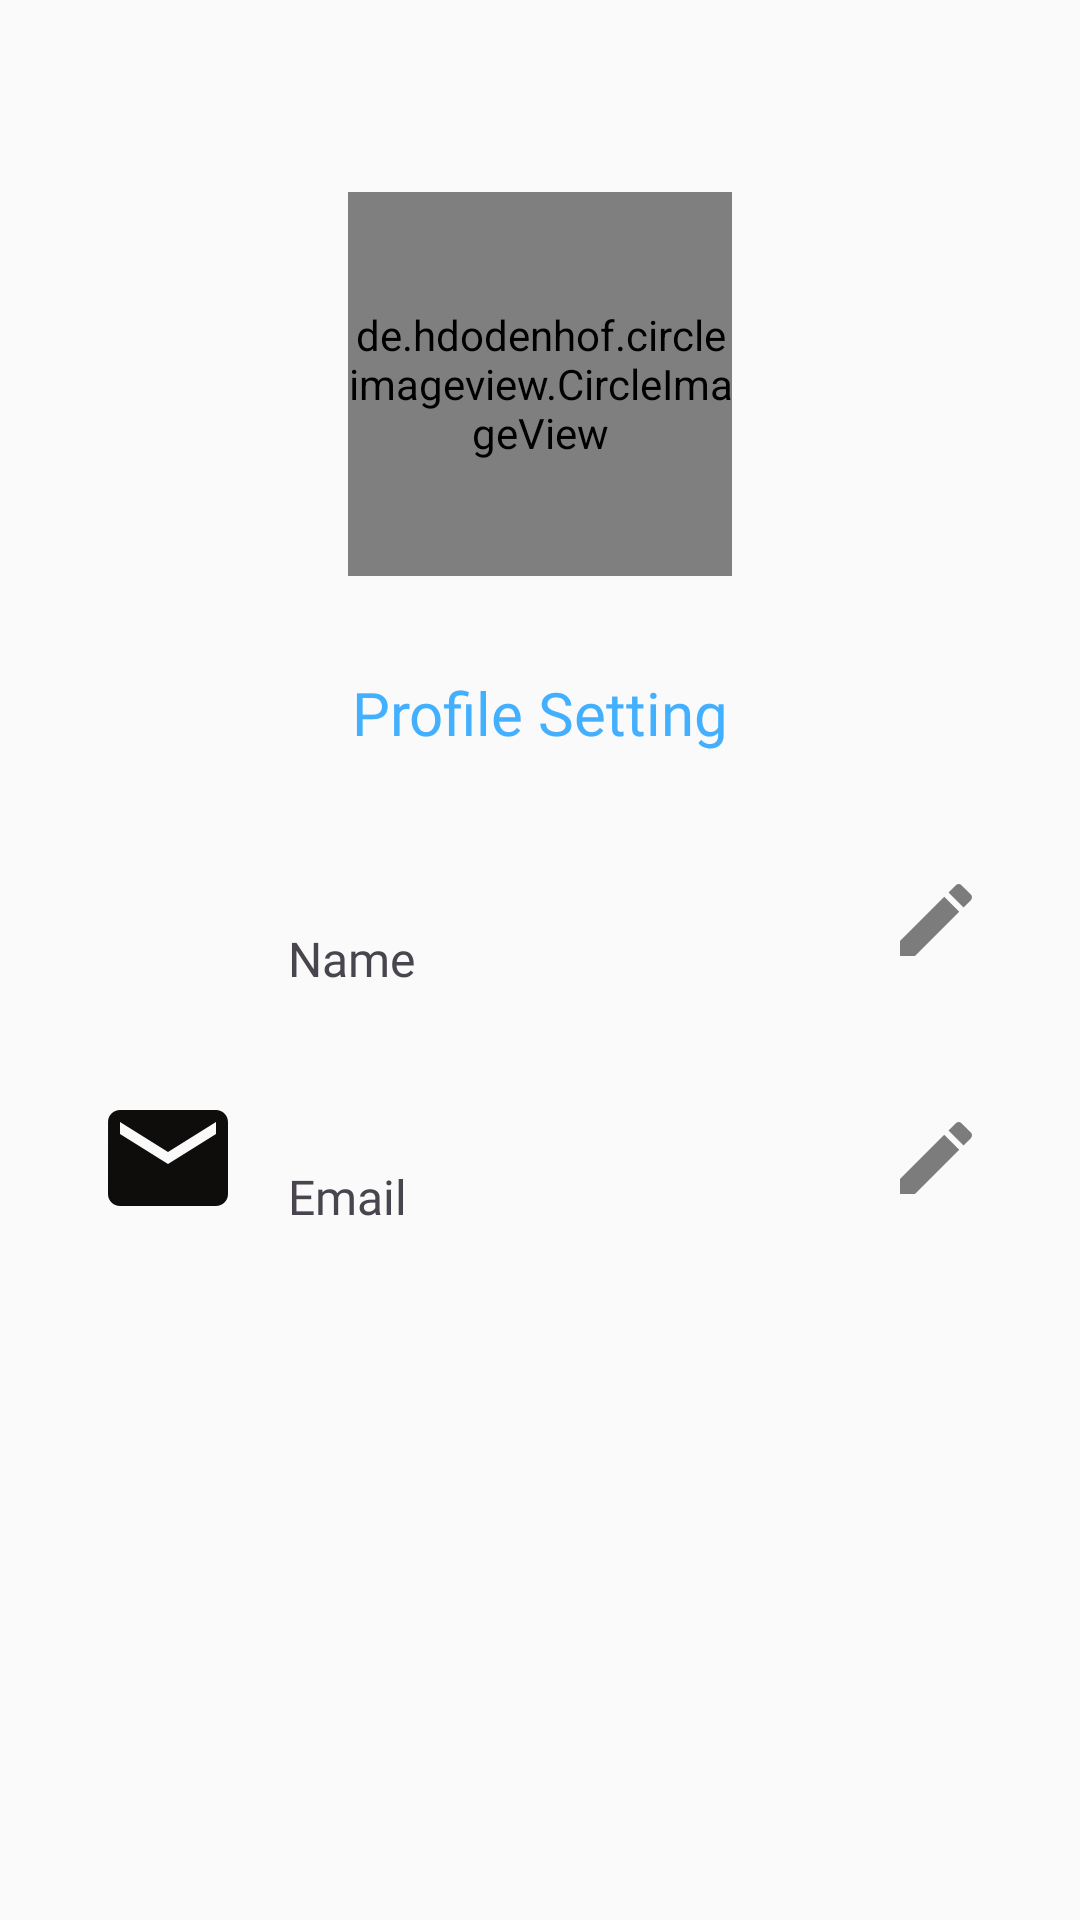

Point at icon controls on the screen. Image size 1080*1920, points as (x=x, y=y).
edit profile: (x=936, y=920), (x=936, y=1158)
